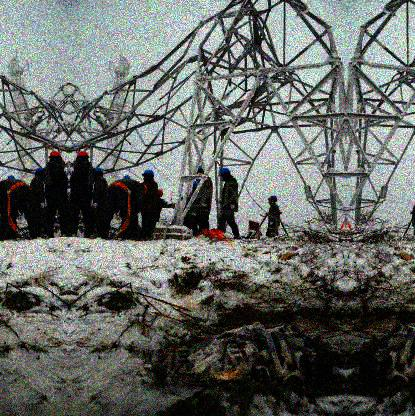helmet: (218, 167, 231, 181), (49, 150, 62, 163), (143, 169, 154, 182), (35, 167, 46, 177), (269, 195, 278, 205), (94, 167, 102, 177), (156, 189, 163, 198)
